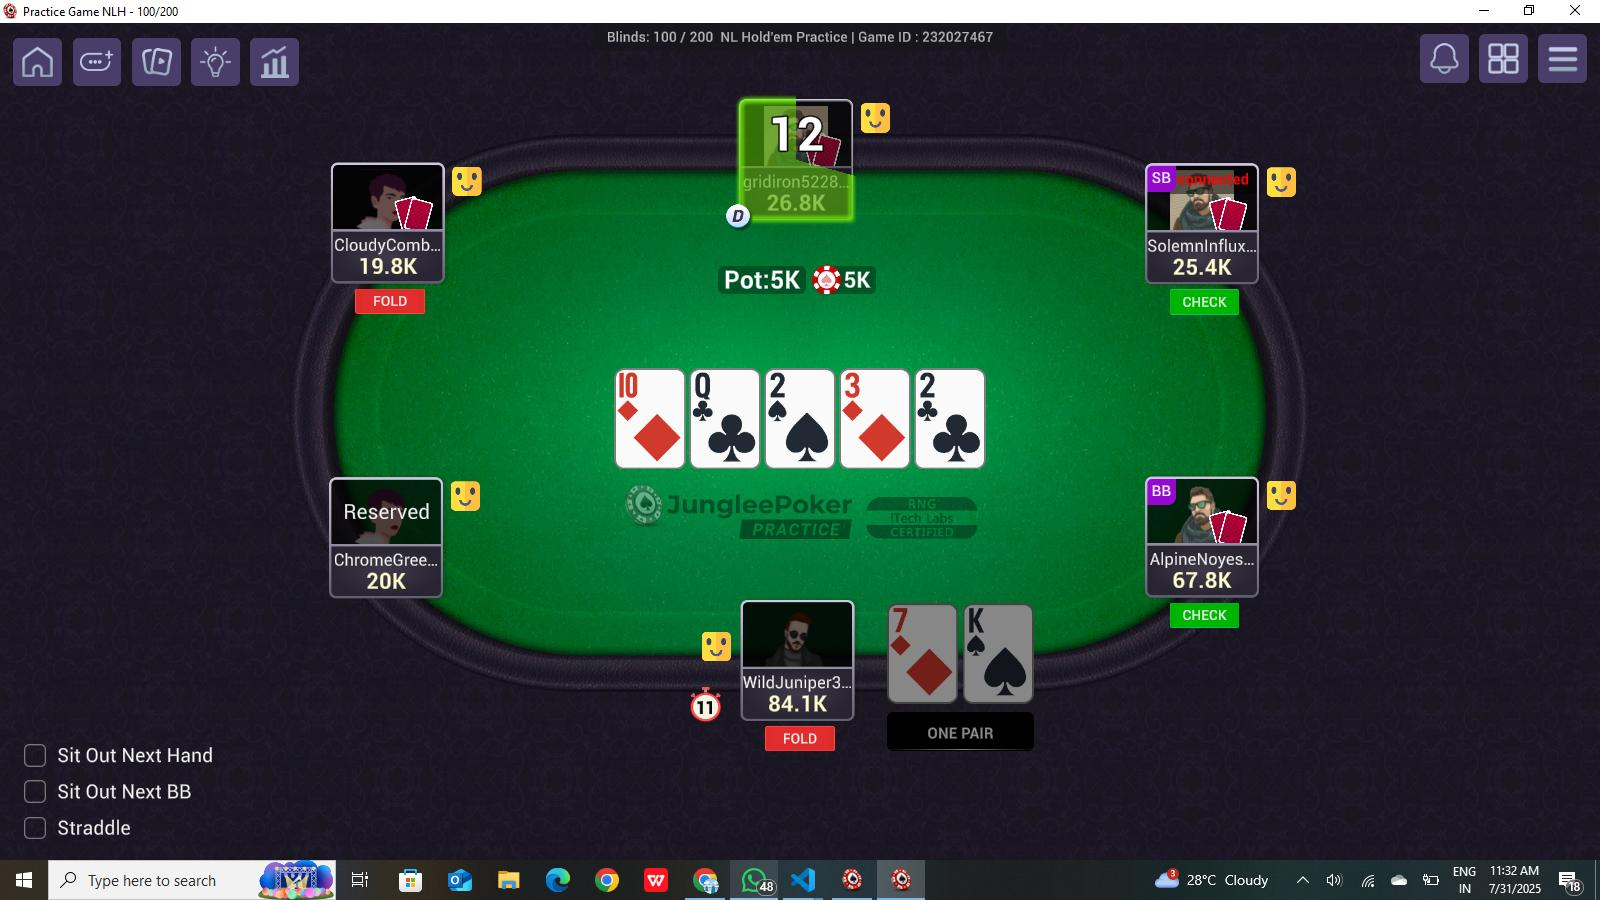card1_rank: (888, 602, 943, 637)
card1_suite_diamond: (904, 635, 955, 705)
card2_rank: (962, 601, 1027, 642)
card2_suite_spades: (980, 636, 1033, 702)
flop1_rank: (612, 368, 686, 400)
flop1_suite_diamond: (632, 401, 684, 469)
flop2_rank: (692, 367, 762, 408)
flop2_suite_club: (702, 407, 756, 466)
flop3_rank: (764, 368, 833, 405)
flop3_suite_spades: (786, 402, 832, 469)
game_id: (852, 23, 1002, 52)
my_stack: (740, 687, 848, 722)
position_BB: (1148, 473, 1180, 509)
position_SB: (1148, 160, 1179, 198)
river_rank: (916, 368, 986, 405)
river_suite_club: (927, 404, 982, 466)
total_pot: (716, 265, 886, 296)
turn_rank: (842, 370, 904, 401)
turn_suite_diamond: (854, 402, 908, 469)
villian1_name: (332, 546, 438, 569)
villian1_stack: (336, 568, 435, 592)
villian2_name: (327, 226, 444, 256)
villian2_stack: (332, 251, 442, 280)
villian3_name: (738, 167, 854, 193)
villian3_stack: (742, 187, 852, 220)
villian4_name: (1148, 229, 1258, 257)
villian4_stack: (1146, 248, 1256, 280)
villian5_name: (1149, 541, 1258, 569)
villian5_stack: (1152, 567, 1255, 600)
